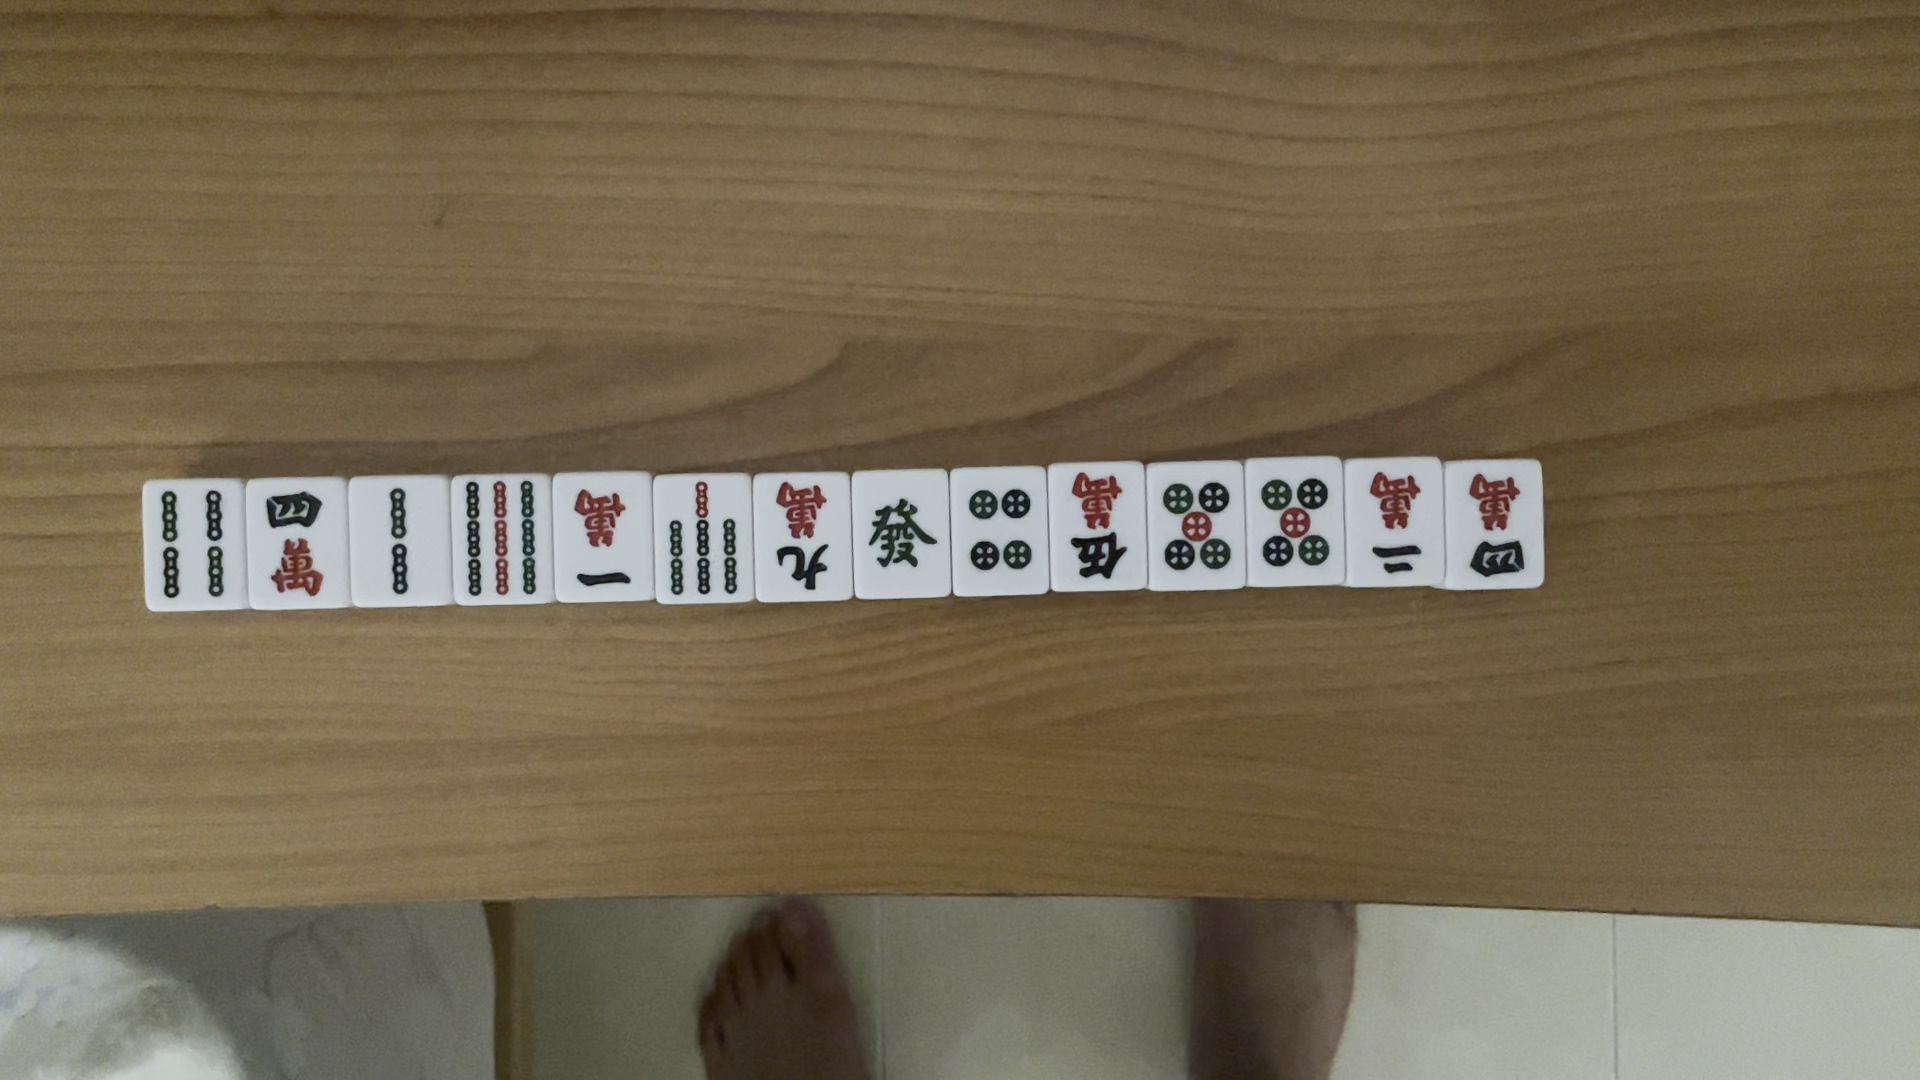b-2: (373, 477, 426, 603)
b-4: (152, 487, 231, 604)
b-7: (661, 476, 742, 603)
b-9: (455, 479, 542, 597)
c-1: (564, 477, 641, 589)
c-2: (1367, 463, 1431, 580)
c-4: (264, 489, 338, 597), (1464, 469, 1532, 585)
c-5: (1062, 472, 1135, 585)
c-9: (771, 477, 839, 599)
d-4: (960, 488, 1036, 579)
d-5: (1245, 472, 1333, 576), (1160, 473, 1242, 582)
honors-green: (858, 498, 942, 575)
